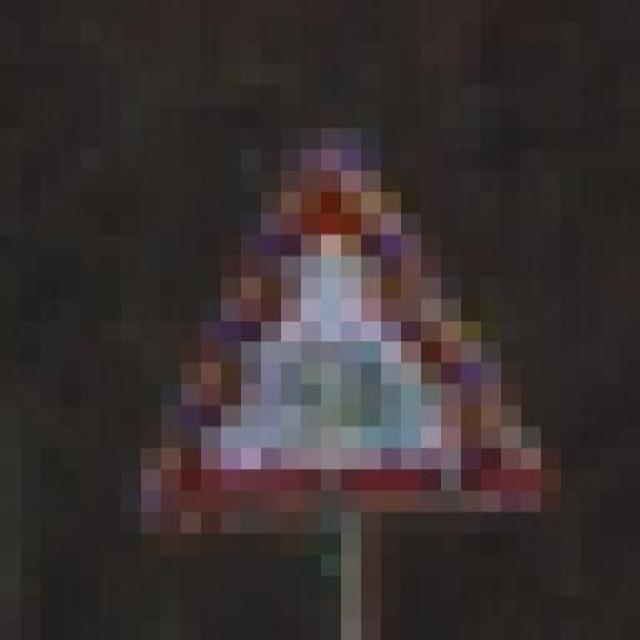CYCLE ROUTE AHEAD WARNING: (120, 107, 580, 555)
